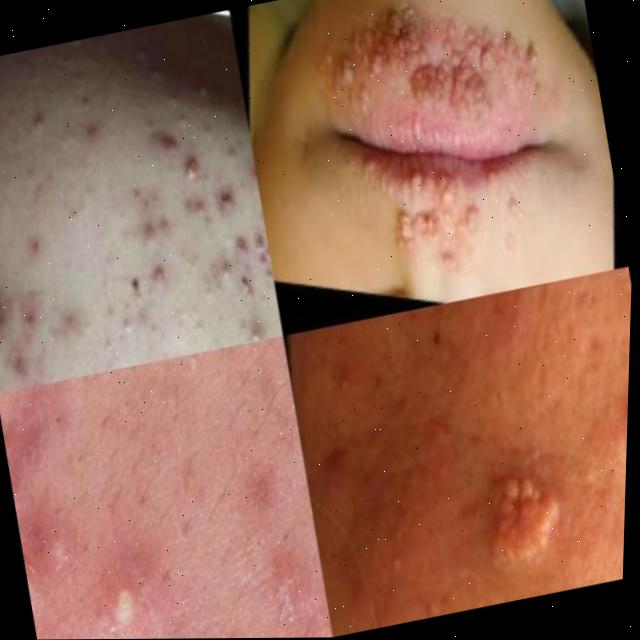Acne: (0, 9, 291, 381), (0, 347, 331, 640)
